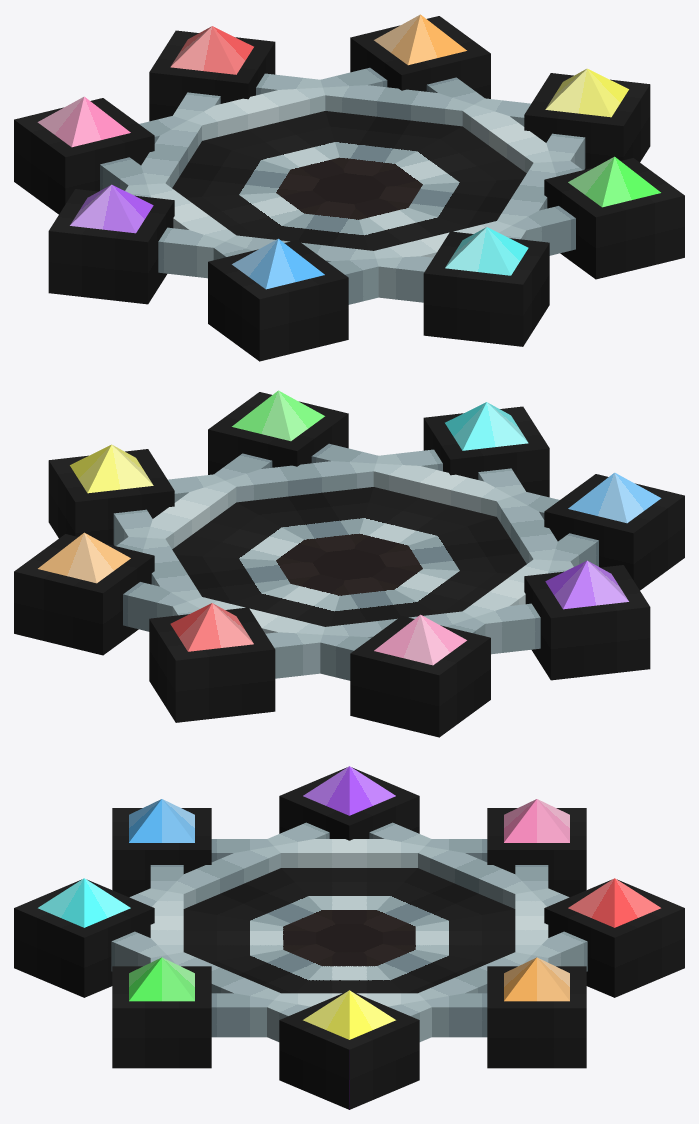
File: ender_disc.obj
3 renders of one model, top to bottom at view 1: azimuth 30°, elevation 25°; view 2: azimuth 150°, elevation 25°; view 3: azimuth 270°, elevation 25°, orthographic. The views are drawn at different scales.
Parts seen in each view (by area): view 1: ENDER_DISC_Cube.007; view 2: ENDER_DISC_Cube.007; view 3: ENDER_DISC_Cube.007.
Boxes of the visible parts, x1,y1,x2,y2 form: ENDER_DISC_Cube.007: (14,14,684,361); ENDER_DISC_Cube.007: (14,390,684,737); ENDER_DISC_Cube.007: (14,766,684,1109).
Size of the model in its own units: 1.27 by 0.1875 by 1.27.
